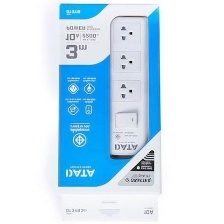book: (55, 3, 162, 223)
three_eye_plug: (103, 10, 152, 164)
